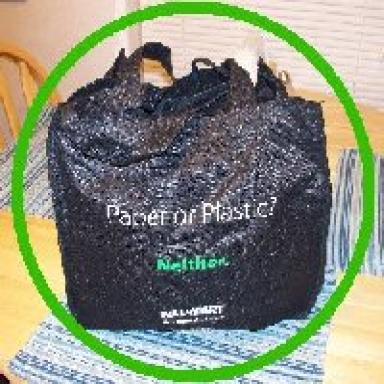plasticbag: (46, 38, 334, 328)
